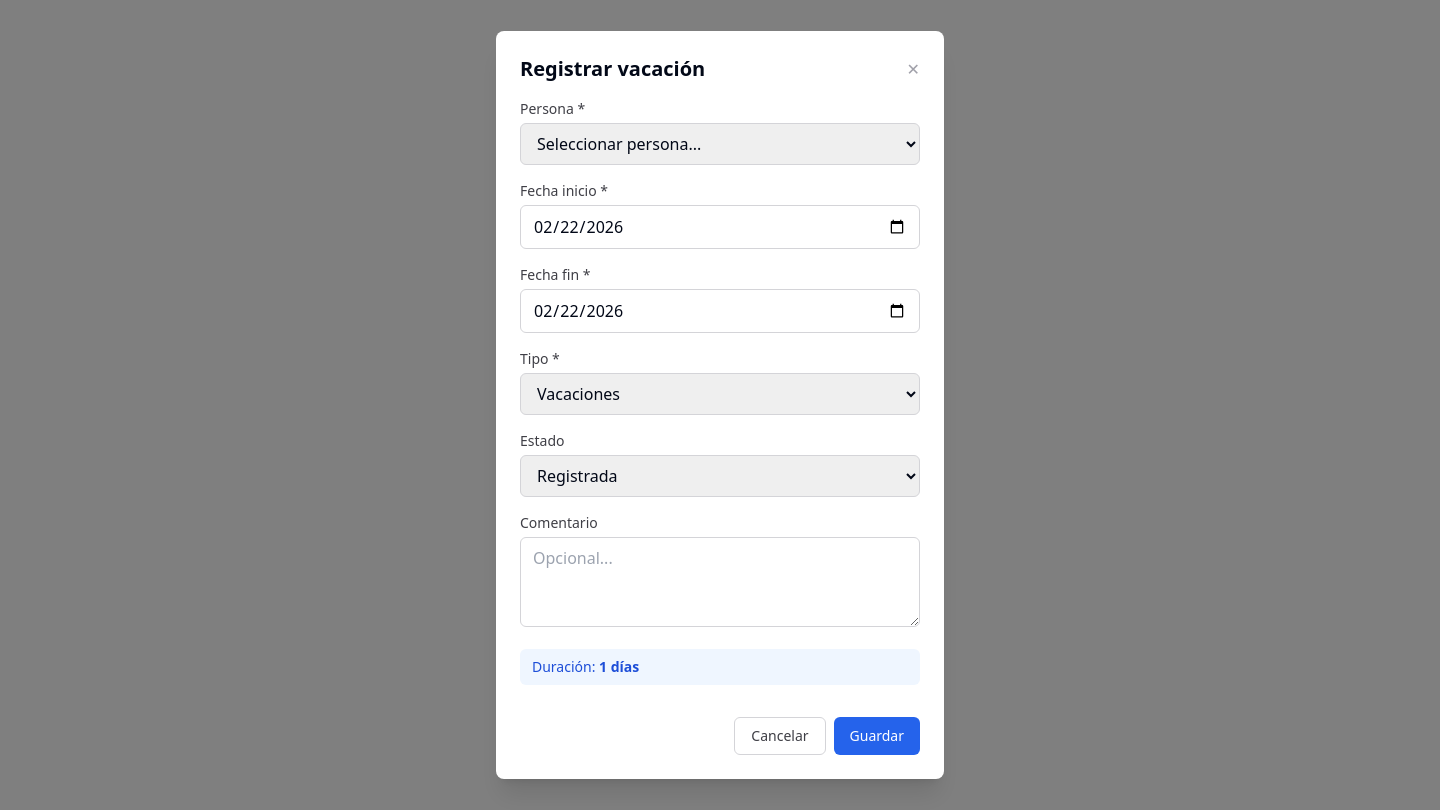
Test: VacacionForm › Cálculo de duración (CA-10) › debe calcular correctamente 1 día cuando fechas son iguales
The image size is (1440, 810).
Type "2024-03-10" into the date field labelled "Fecha inicio *" at (720, 227), box [520, 205, 920, 249]
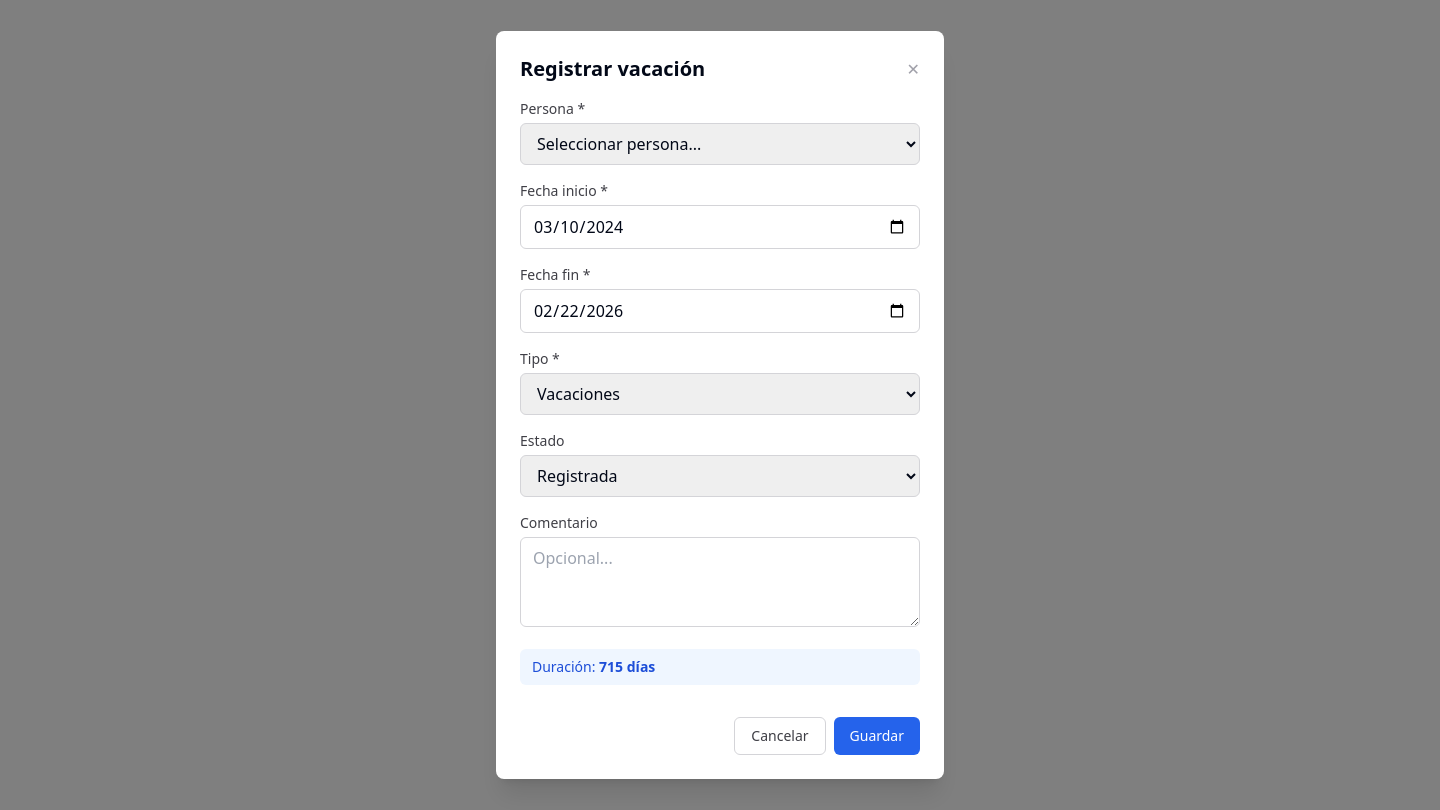
Type "2024-03-10" into the date field labelled "Fecha fin *" at (720, 311), box [520, 289, 920, 333]
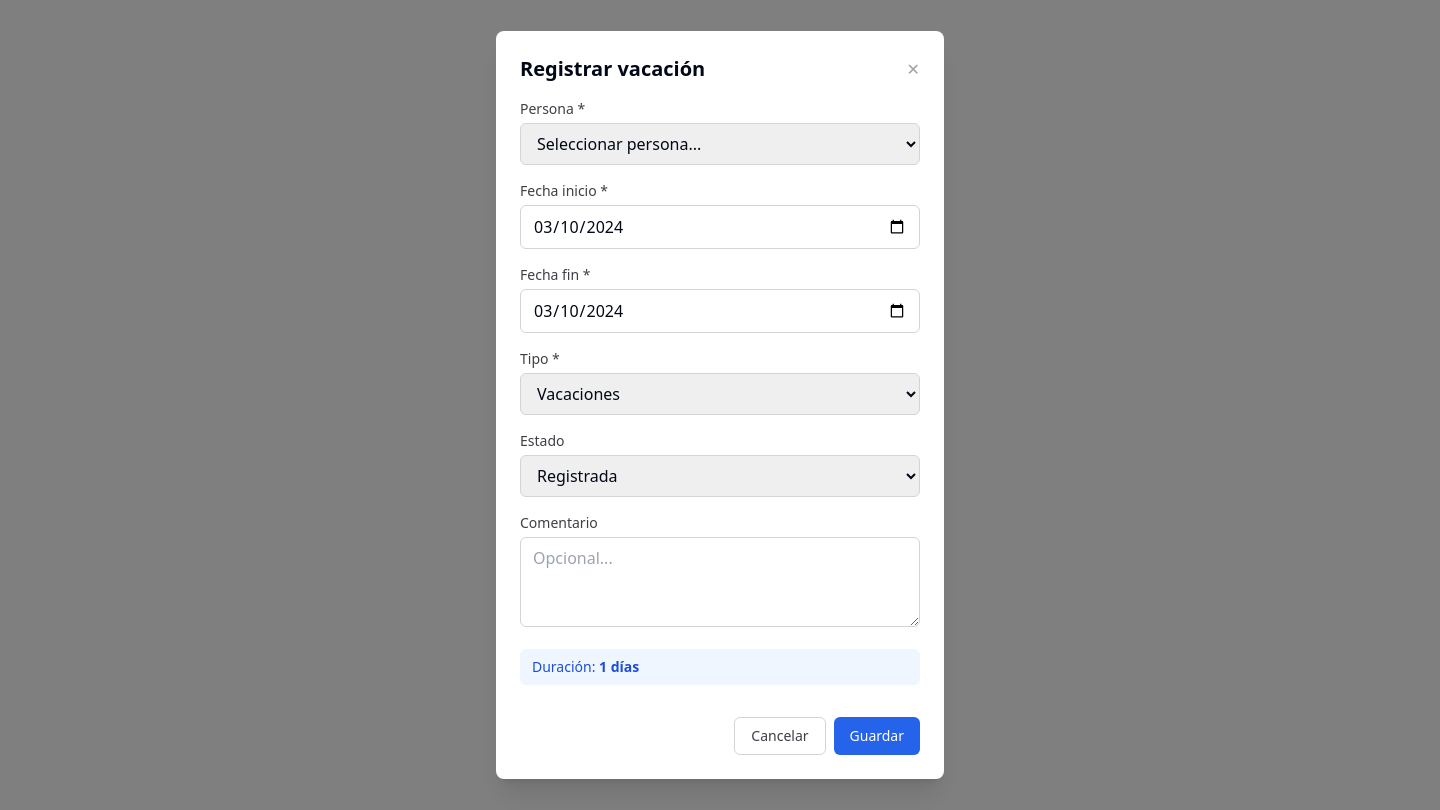
Result: the text "1 días" is shown at [599, 657, 639, 676]
